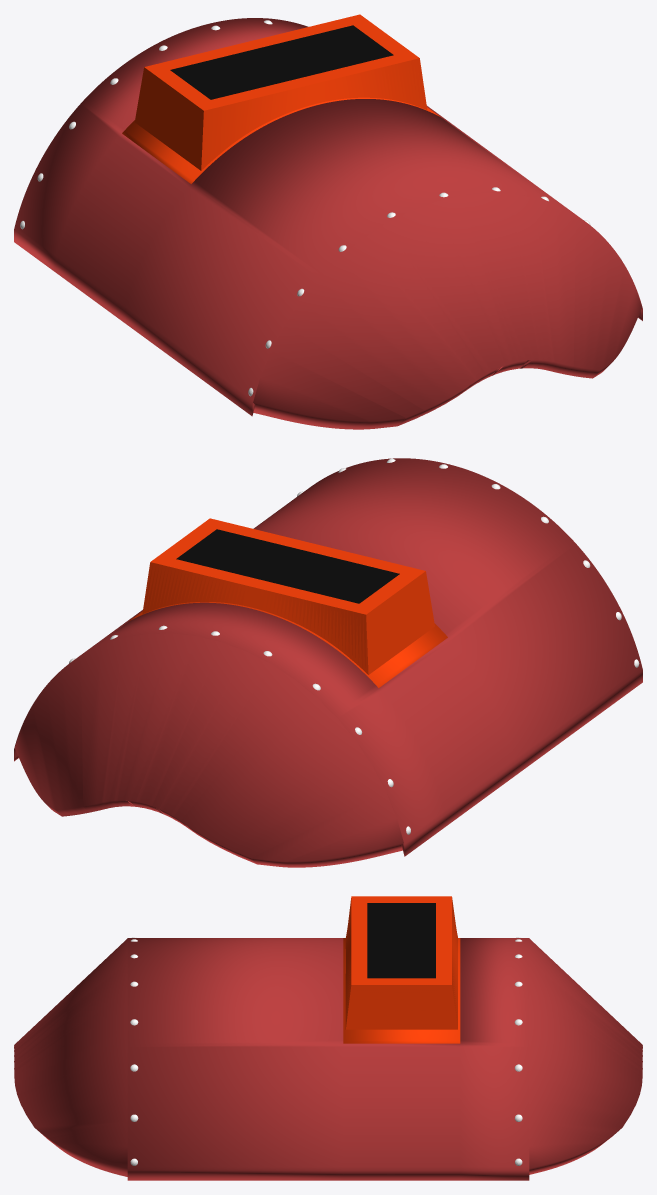
3 views of the same model, one above another, from view 1: azimuth 30°, elevation 25°; view 2: azimuth 150°, elevation 25°; view 3: azimuth 270°, elevation 25° (orthographic). The views are drawn at different scales.
Visible parts, largest first — view 1: 电焊帽; view 2: 电焊帽; view 3: 电焊帽.
Part boxes in pixels (bbox=[...]): 电焊帽: bbox=[14, 14, 642, 429]; 电焊帽: bbox=[14, 458, 642, 867]; 电焊帽: bbox=[14, 896, 642, 1180].
Bounding box in the file's own units: 1.48 × 0.7038 × 2.45.
